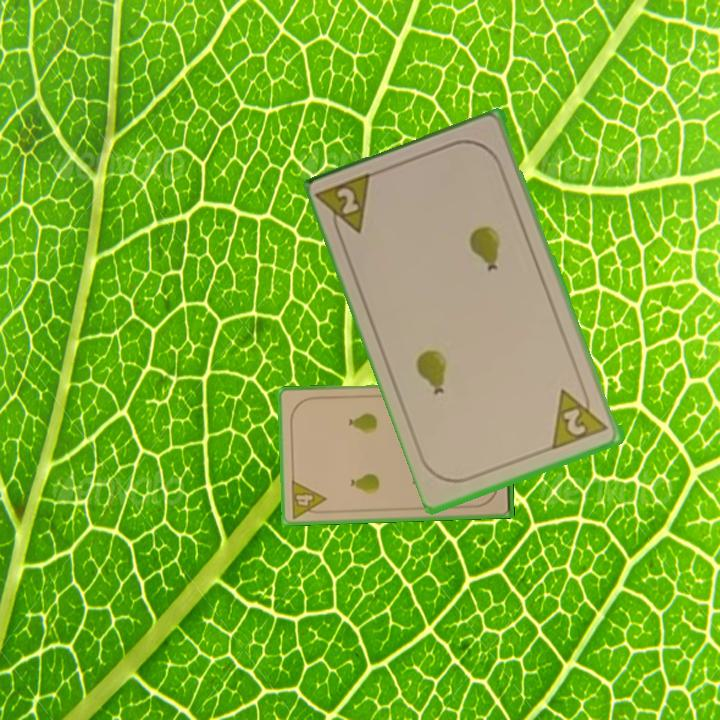2p: (315, 169, 378, 245), (549, 380, 612, 452)
4p: (287, 477, 329, 521)
